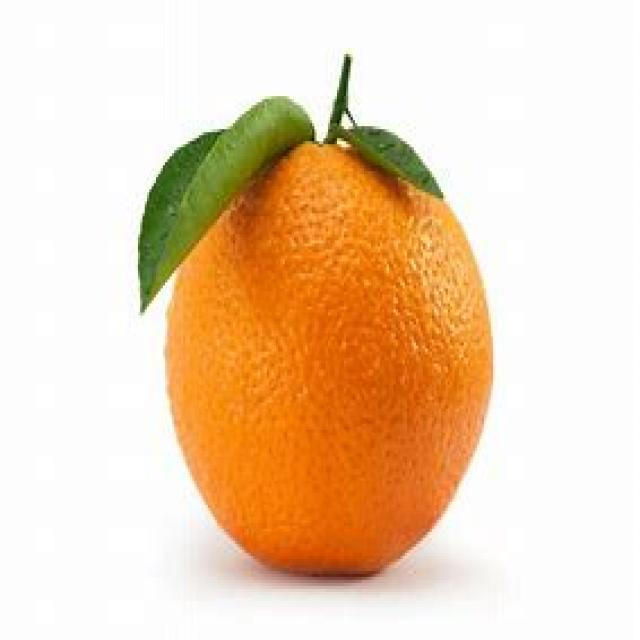orange: (163, 128, 493, 578)
